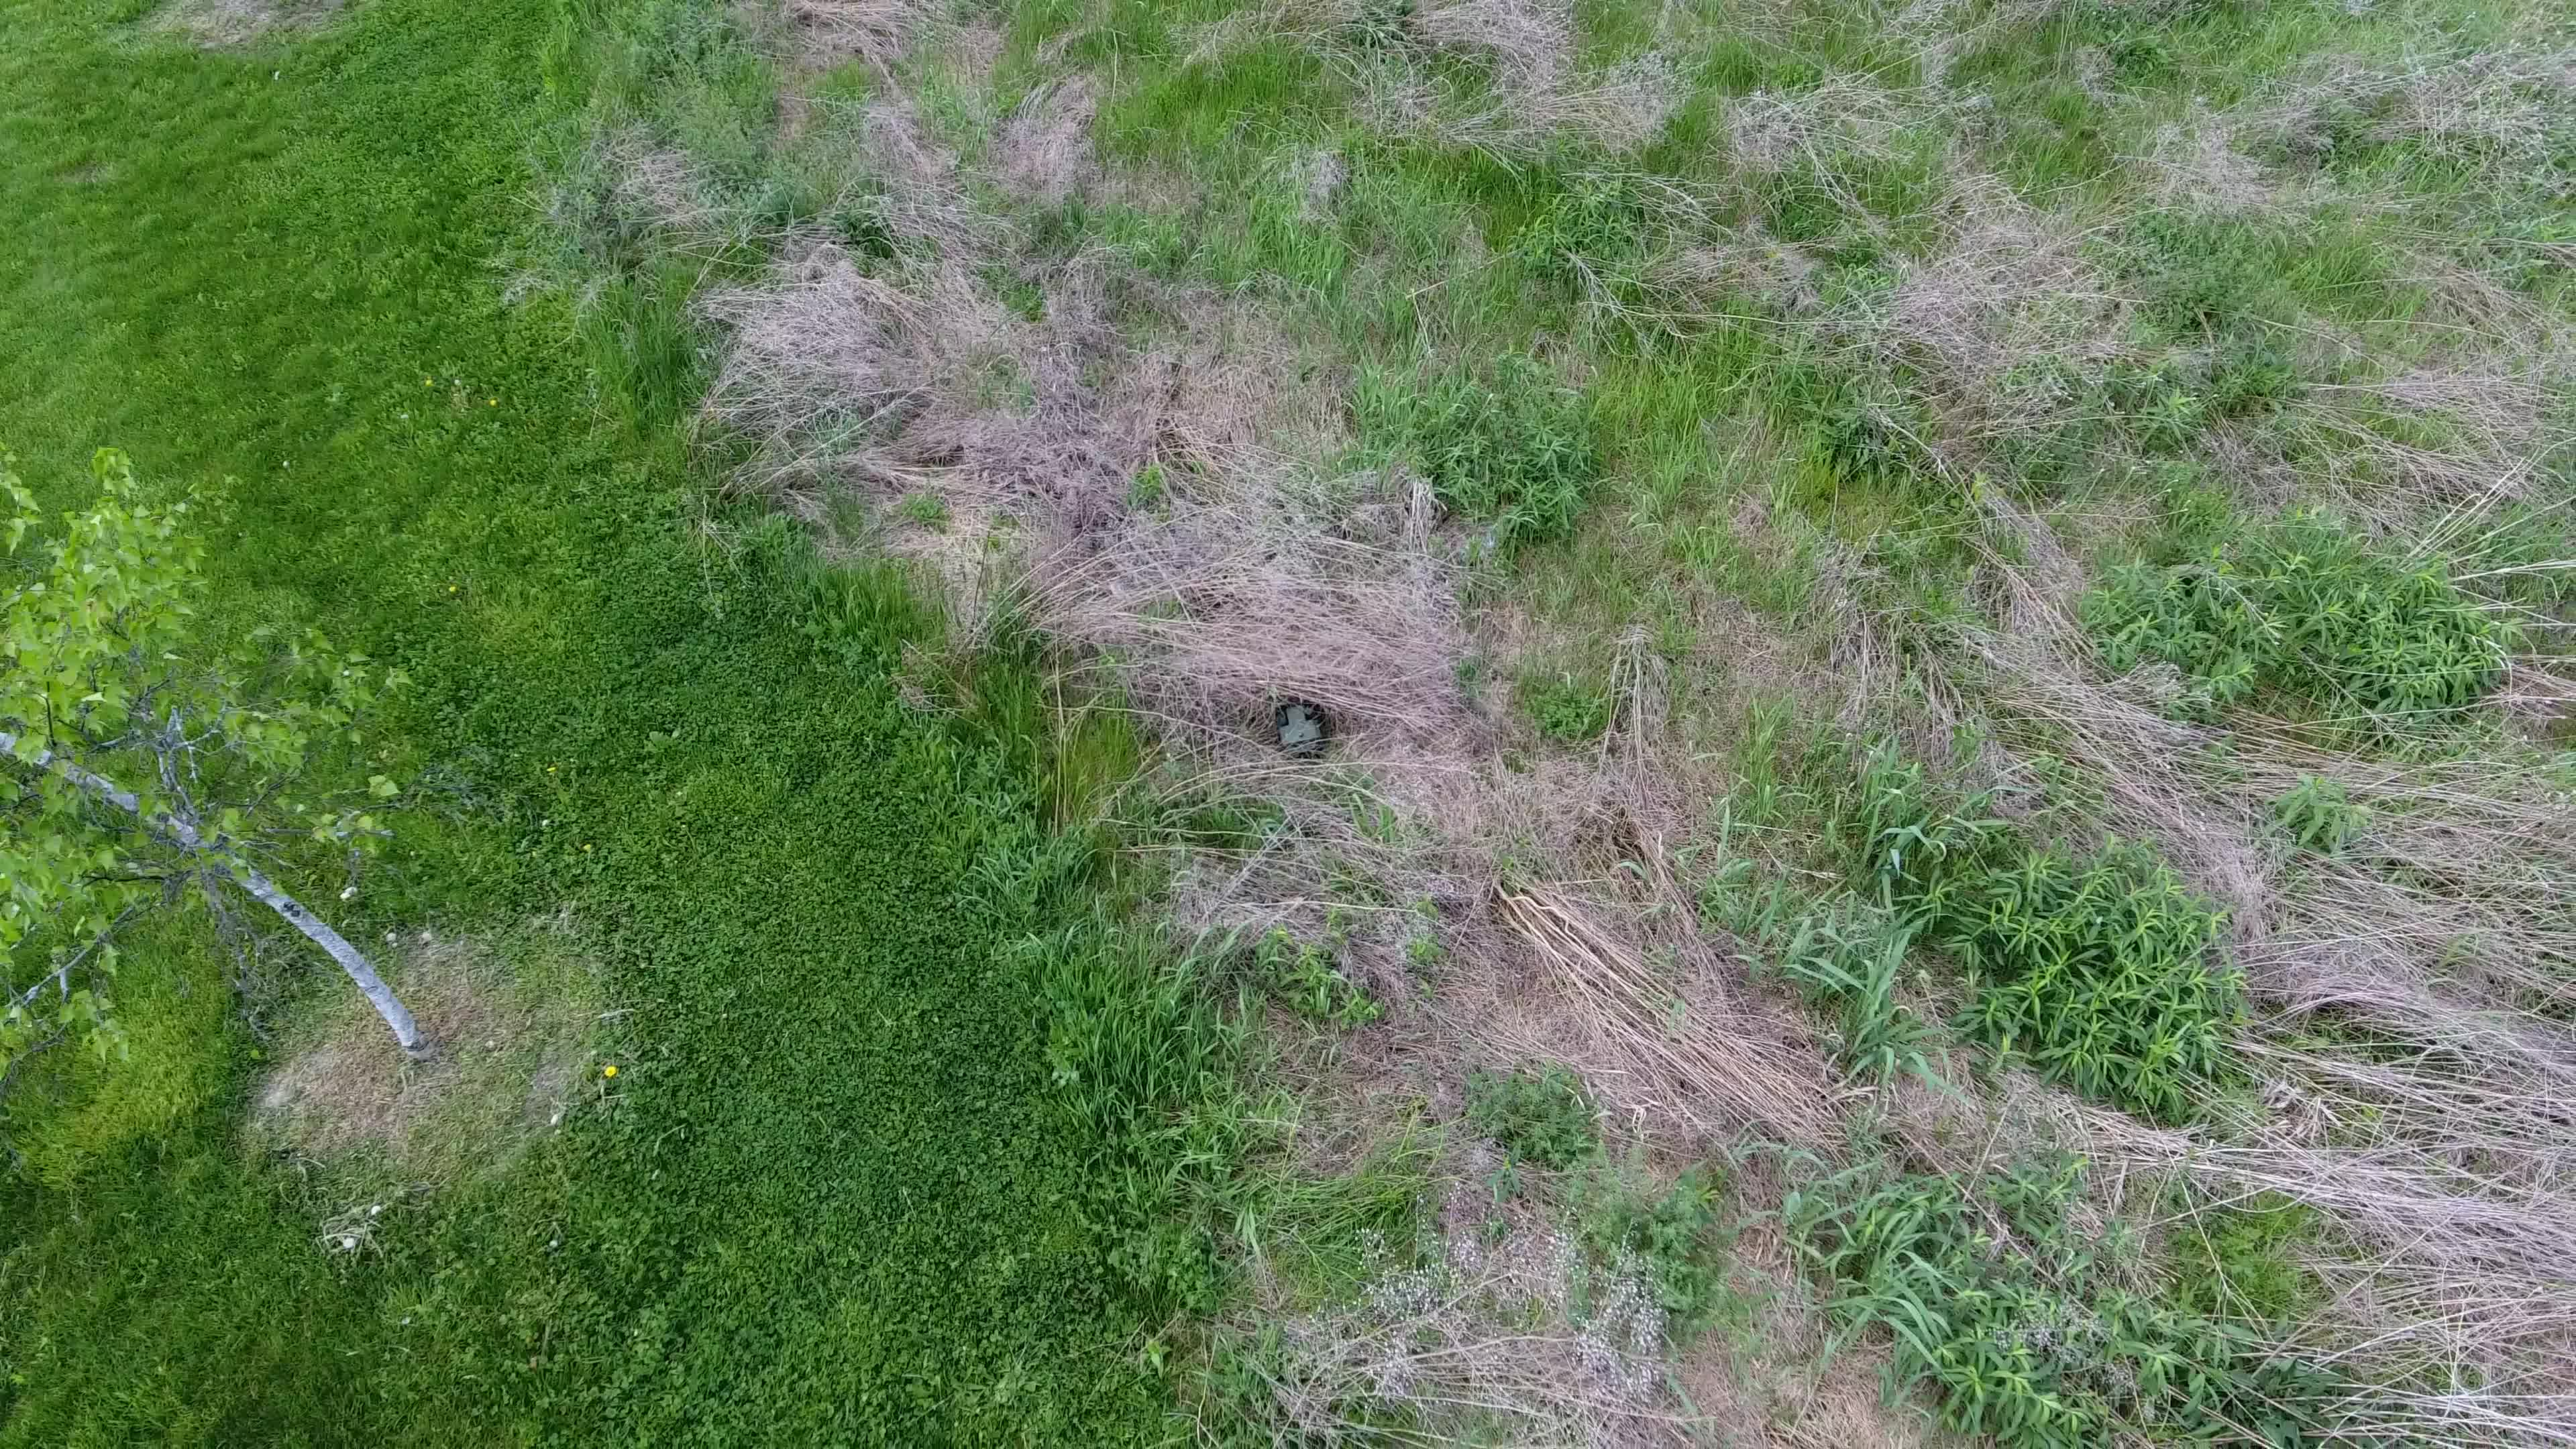transporter9: (1270, 688, 1330, 755)
